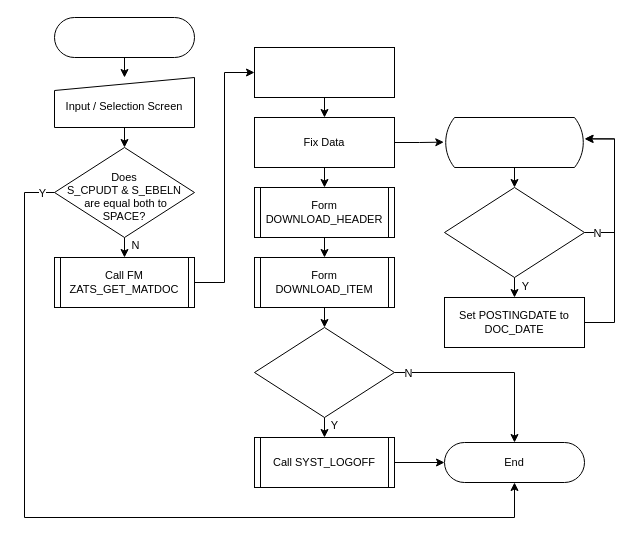
Some shapes in this 640 by 543 pixel diagram are drawn without their labels. The shapes that lost their labels are listed below. From the top down, each one's centre as x and y in pixels, then its label:
At point (124, 37): "Start".
At point (324, 72): "Set File Properties (DBF or DAT)".
At point (514, 142): "Process Document Header".
At point (514, 232): "Is DOC_DATE is less than 18000101?".
At point (324, 372): "Is SY-UNAME contains LFBATCH string?".
